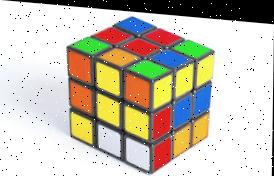cube: (62, 9, 214, 174)
